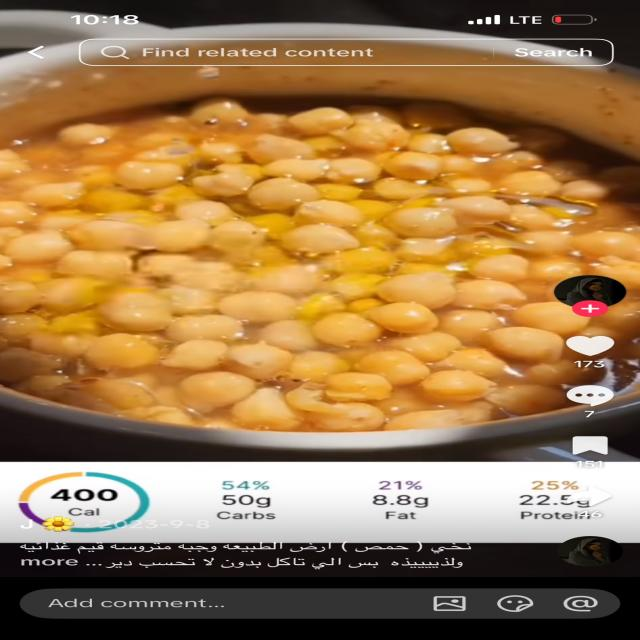Nakhi: (7, 74, 640, 437)
